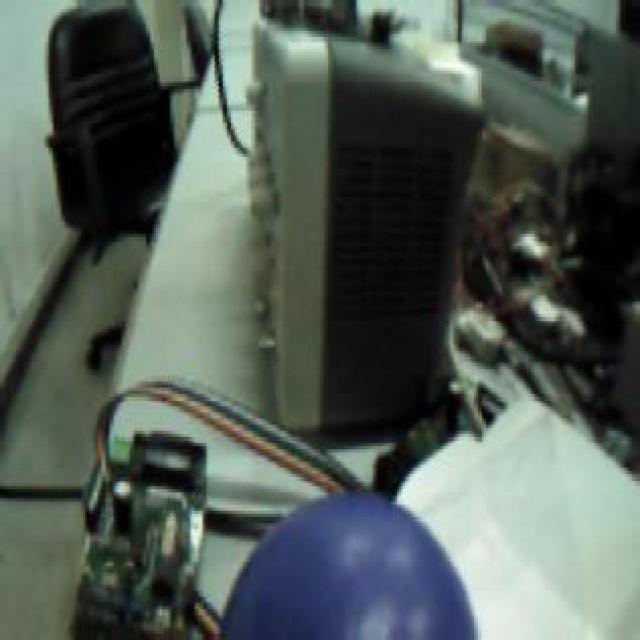BallPurple: (218, 493, 473, 640)
